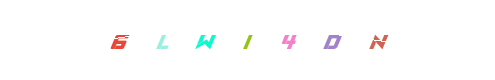4: (207, 0, 287, 80)
6: (137, 0, 217, 80)
D: (231, 0, 311, 80)
I: (207, 0, 287, 80)
L: (165, 0, 245, 80)
N: (292, 0, 372, 80)
W: (194, 0, 274, 80)
